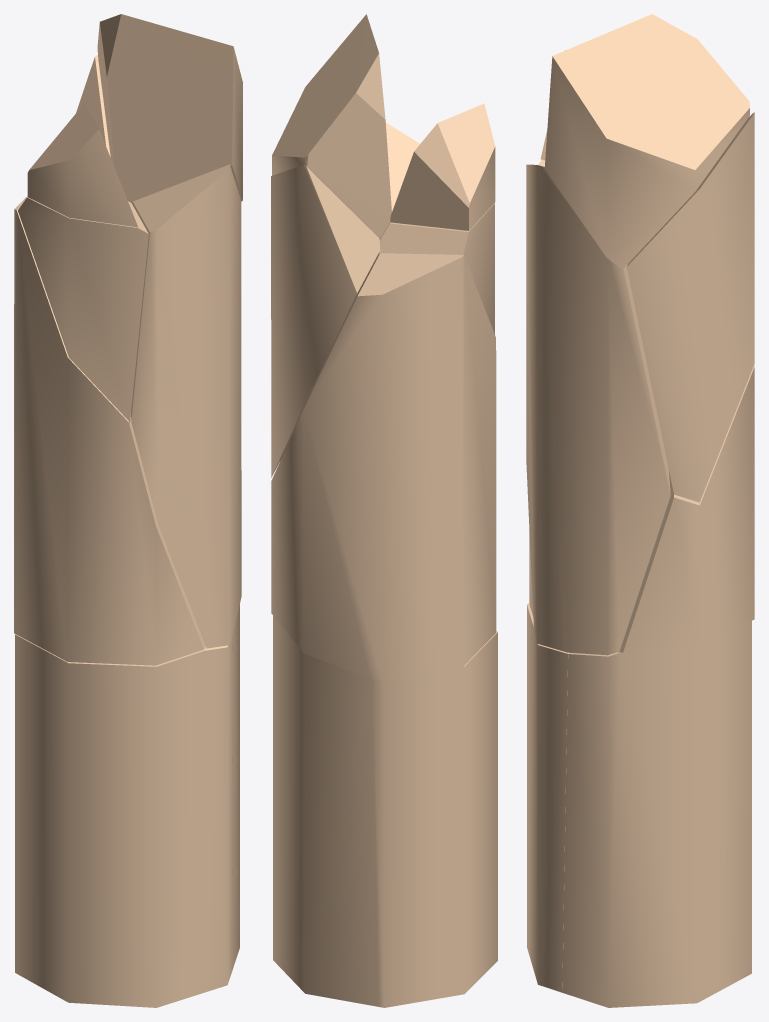
The model's file is PillarB_brokenB.fbx.
3 renders of one model, left to right at view 1: azimuth 30°, elevation 25°; view 2: azimuth 150°, elevation 25°; view 3: azimuth 270°, elevation 25°, orthographic. The views are drawn at different scales.
Visible parts, largest first — view 1: PillarB_brokenB; view 2: PillarB_brokenB; view 3: PillarB_brokenB.
Part boxes in pixels (x1=…): PillarB_brokenB: x1=14, y1=14, x2=242, y2=1007; PillarB_brokenB: x1=271, y1=14, x2=497, y2=1007; PillarB_brokenB: x1=526, y1=14, x2=754, y2=1007.
Size of the model in its own units: 288 by 1322 by 289.
